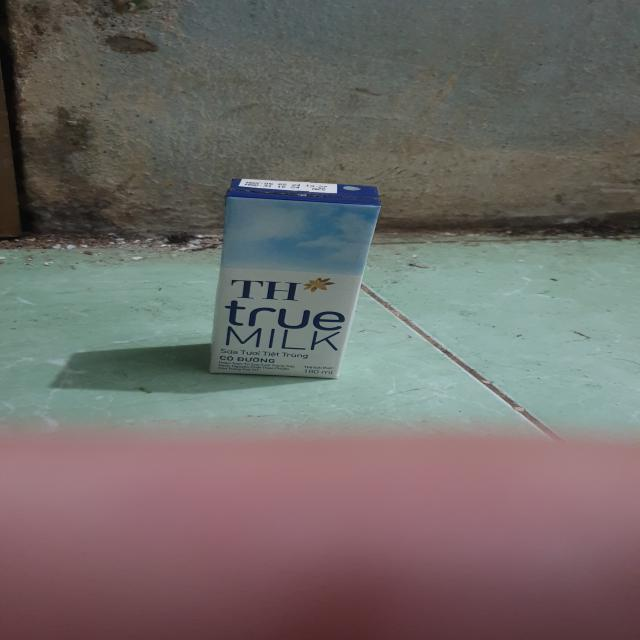TH: (211, 179, 381, 380)
